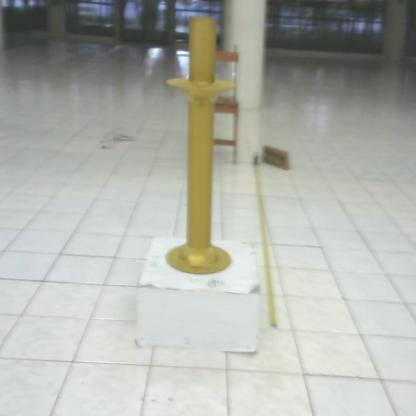pole: (162, 14, 240, 278)
